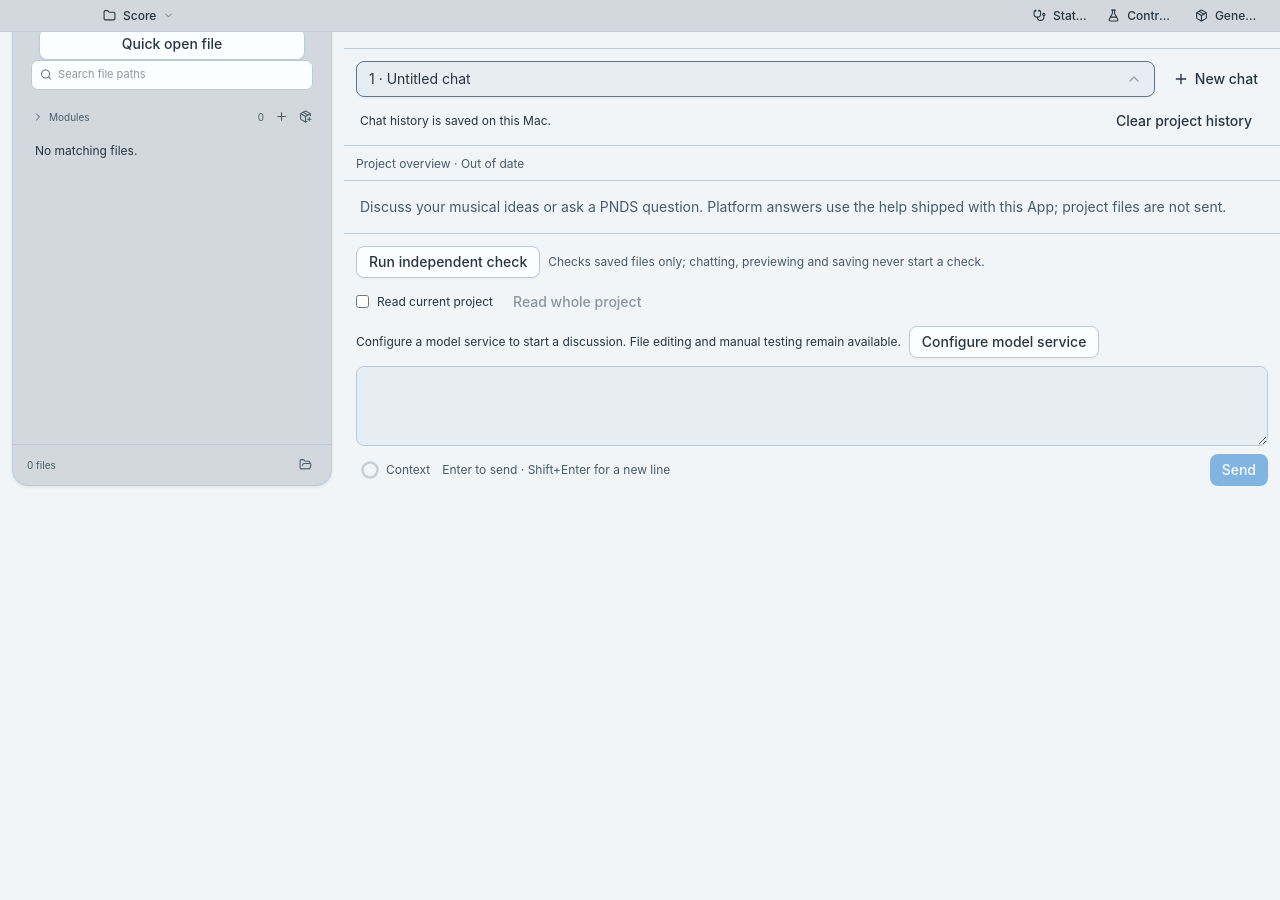
Scenario: adds through the trusted command, refreshes real files and keeps the runtime untouched
Click the button named "Add PNDS module": [281, 117] box [269,105,293,129]
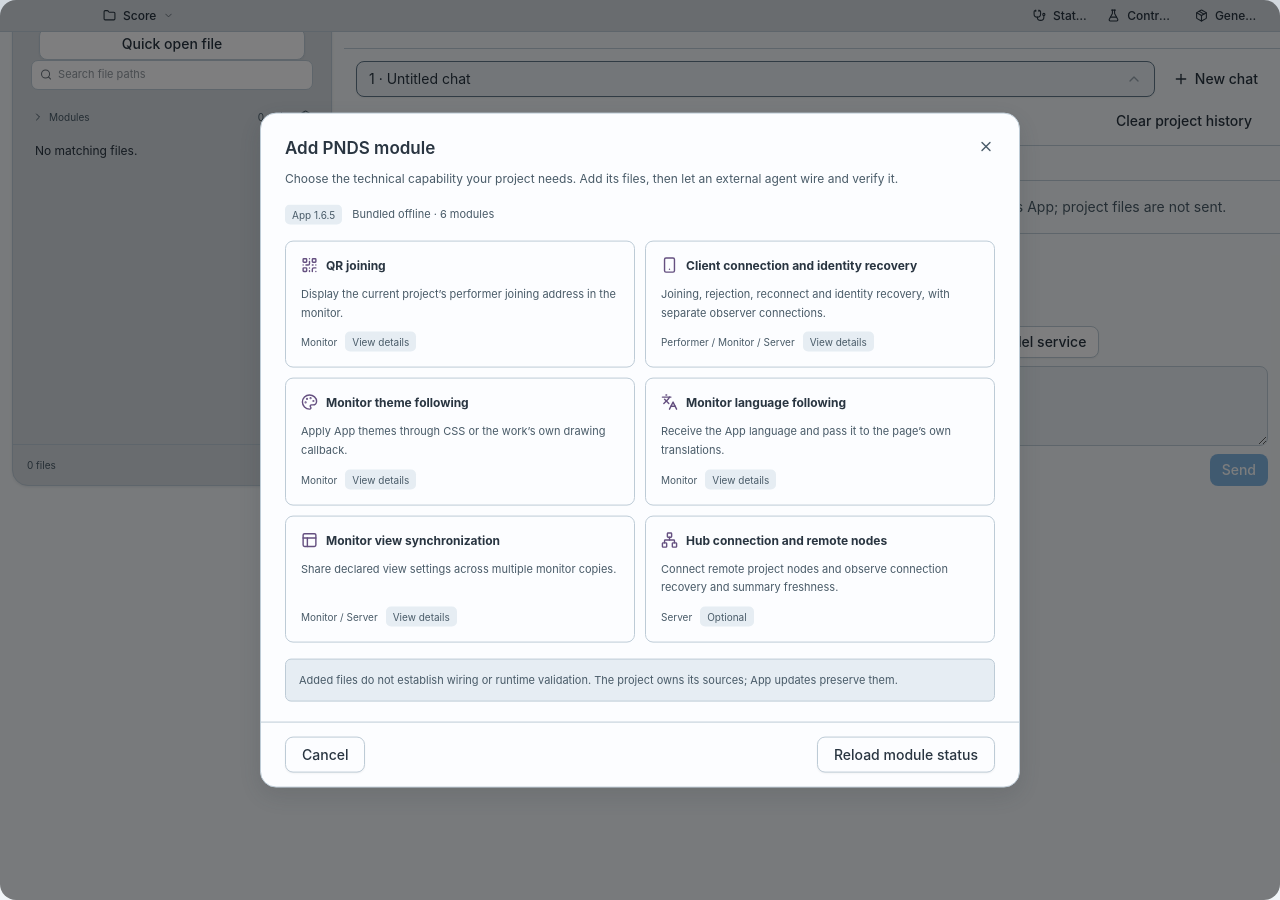
Click the button "QR joining": [356, 265] box [285,241,635,368]
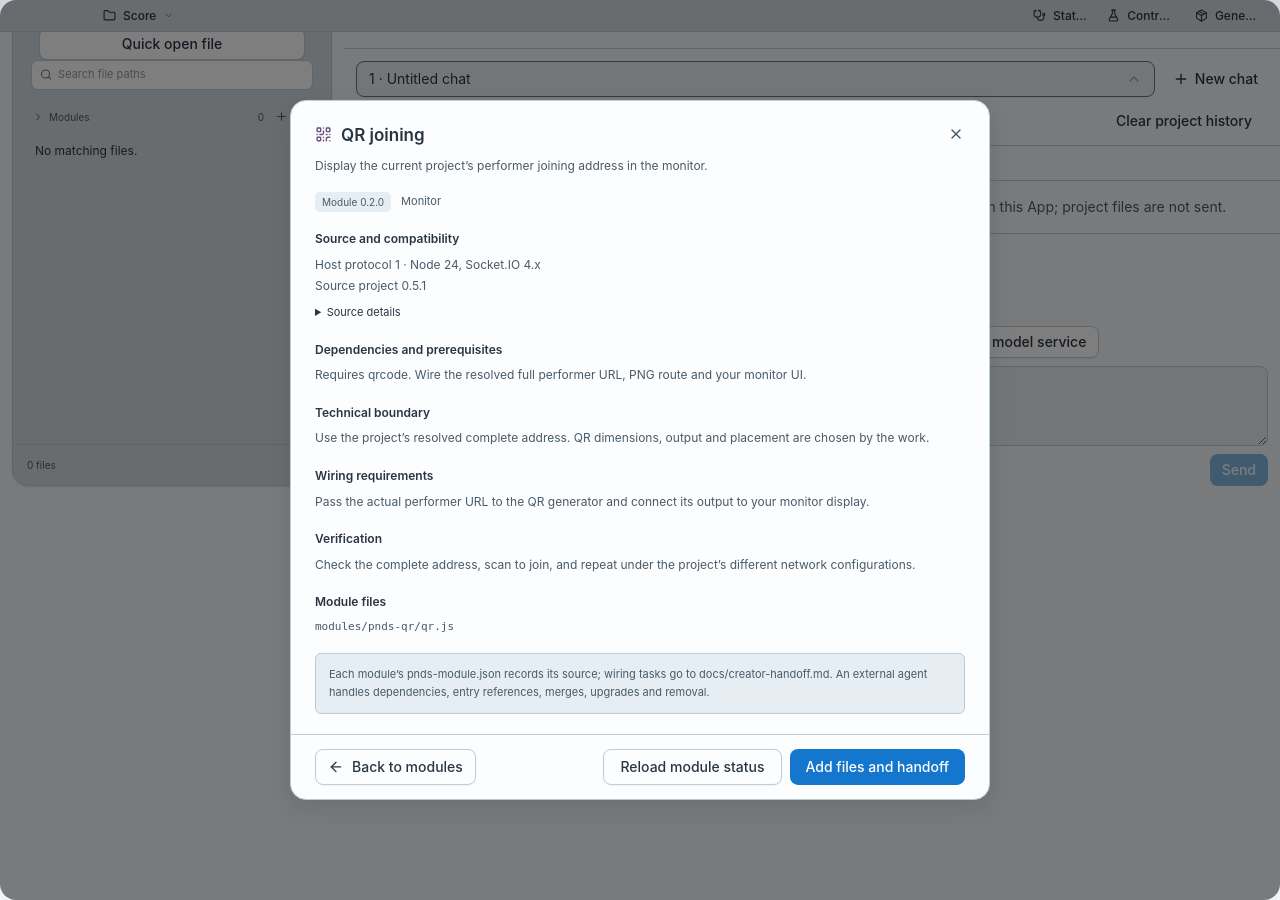
Click the button "Add files and handoff": [877, 767] box [790,749,965,785]
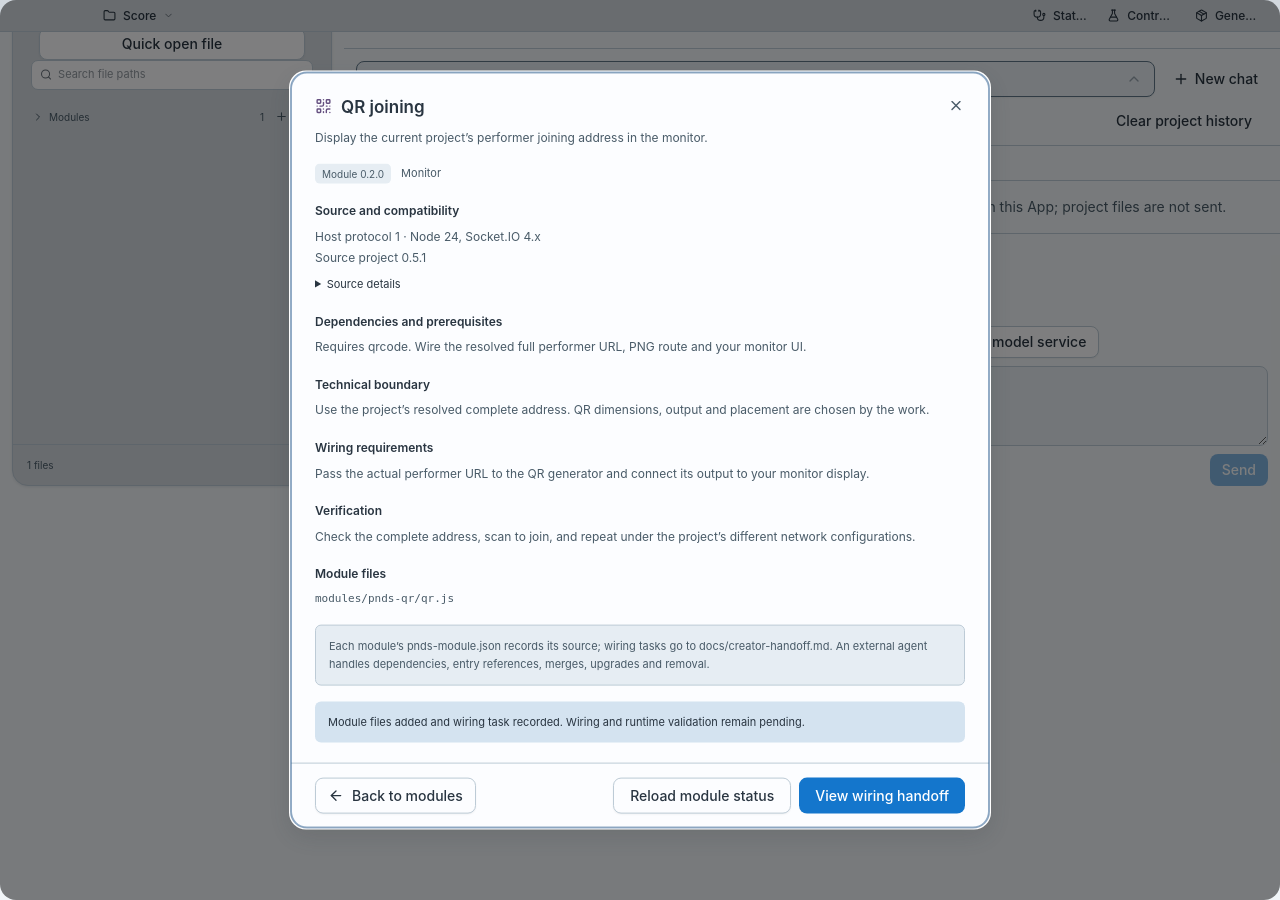
Expected: the text "Module files added and wiring task recorded" is shown, [328,715,805,729]
